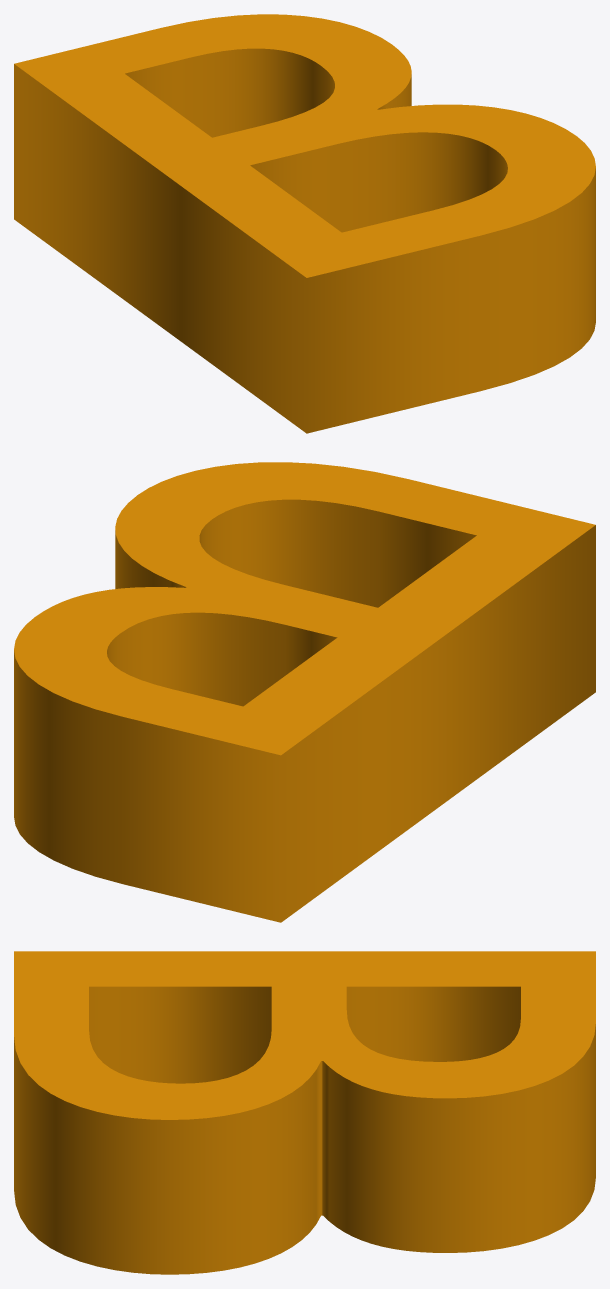
The picture shows the model from 3 angles, top to bottom: view 1: azimuth 30°, elevation 25°; view 2: azimuth 150°, elevation 25°; view 3: azimuth 270°, elevation 25°; orthographic projection. The views are drawn at different scales.
Parts seen in each view (by area): view 1: Text; view 2: Text; view 3: Text.
Part boxes in pixels (x1,y1,x2,y2): Text: (14, 14, 595, 433); Text: (14, 462, 595, 922); Text: (14, 951, 595, 1274).
Size of the model in its own units: 0.468 by 0.682 by 0.2.
